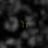one: (23, 19, 26, 28)
seven: (19, 19, 22, 27)
